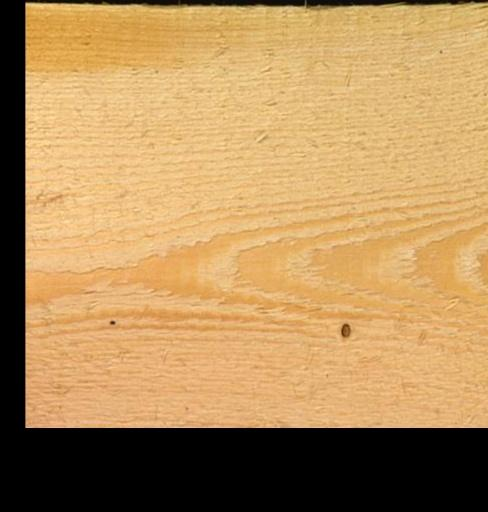dry_knot: (337, 318, 352, 343)
